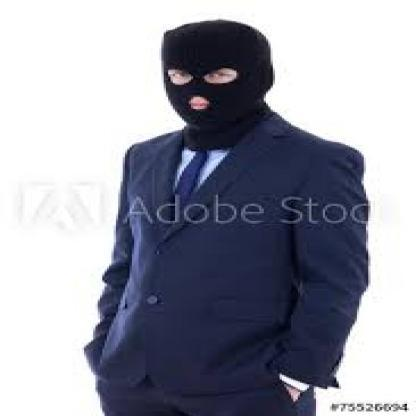criminal: (84, 18, 370, 416)
